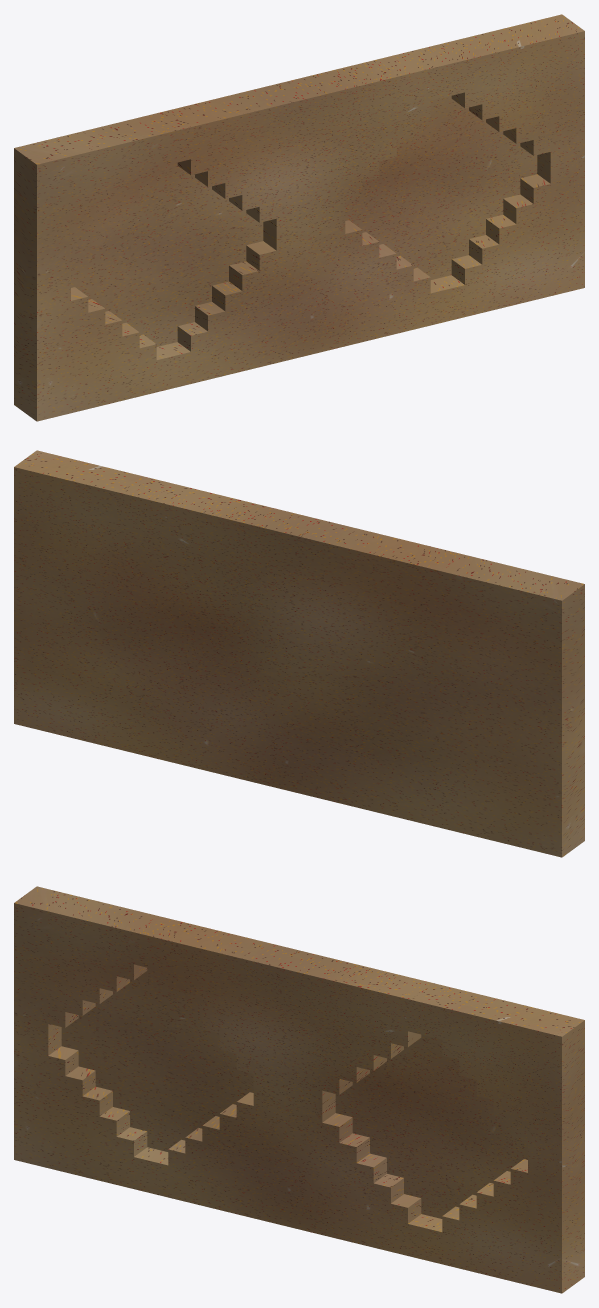
Rendered from ruina_cubos.fbx.
The picture shows the model from 3 angles, top to bottom: view 1: azimuth 30°, elevation 25°; view 2: azimuth 150°, elevation 25°; view 3: azimuth 330°, elevation 25°; orthographic projection.
Visible parts, largest first — view 1: Cube; view 2: Cube; view 3: Cube.
Boxes of the visible parts, x1,y1,x2,y2 form: Cube: [14, 14, 584, 421]; Cube: [14, 450, 584, 857]; Cube: [14, 886, 584, 1293].
Size of the model in its own units: 1525 by 683 by 110.
